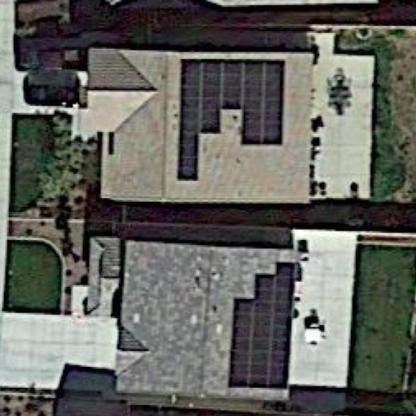solar_panel: (172, 54, 292, 192), (222, 251, 301, 398)
